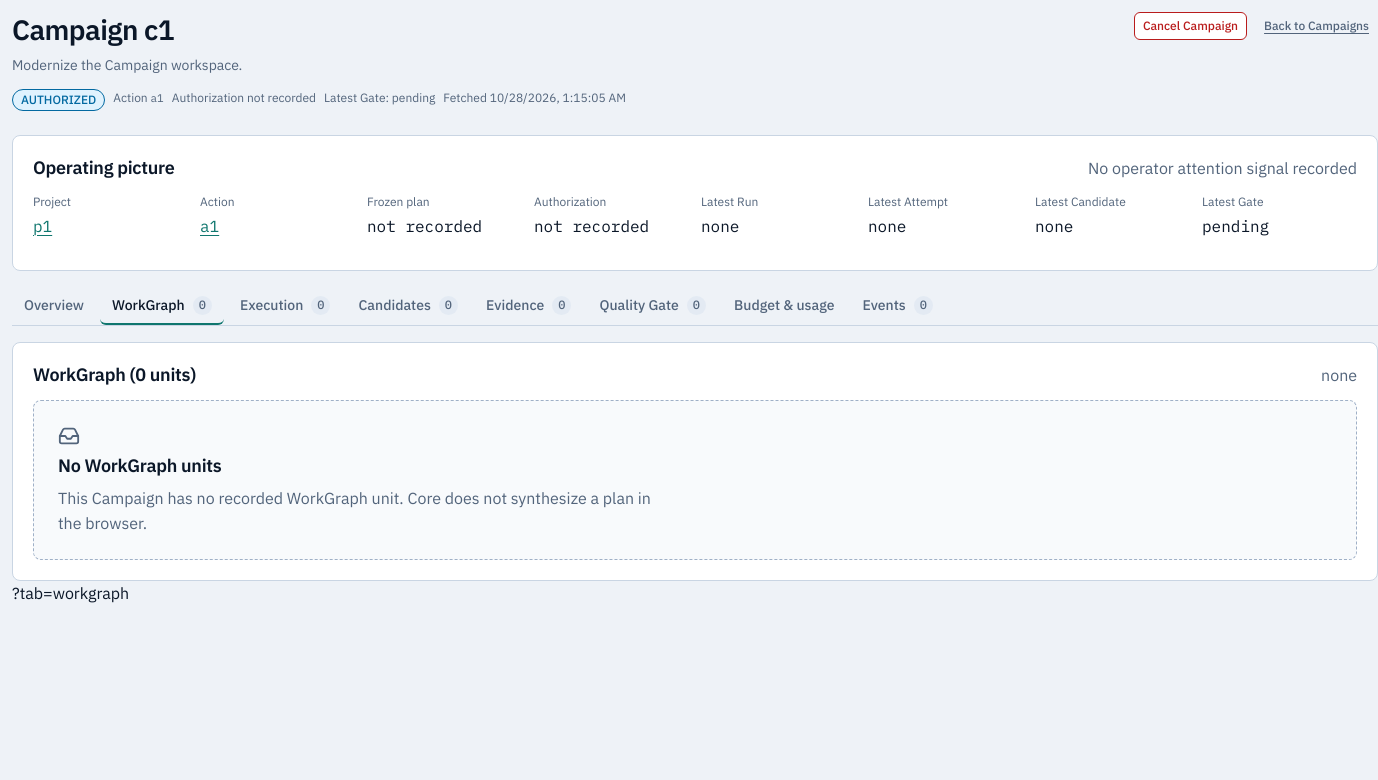
Scenario: CampaignDetail › deep-links tabs and keeps the selected tab in the URL
The width and height of the screenshot is (1378, 780).
Expected: the heading "WorkGraph (0 units)" is shown, [33, 364, 196, 387]
Click the tab "Budget & usage": (784,306) [722, 288, 846, 326]
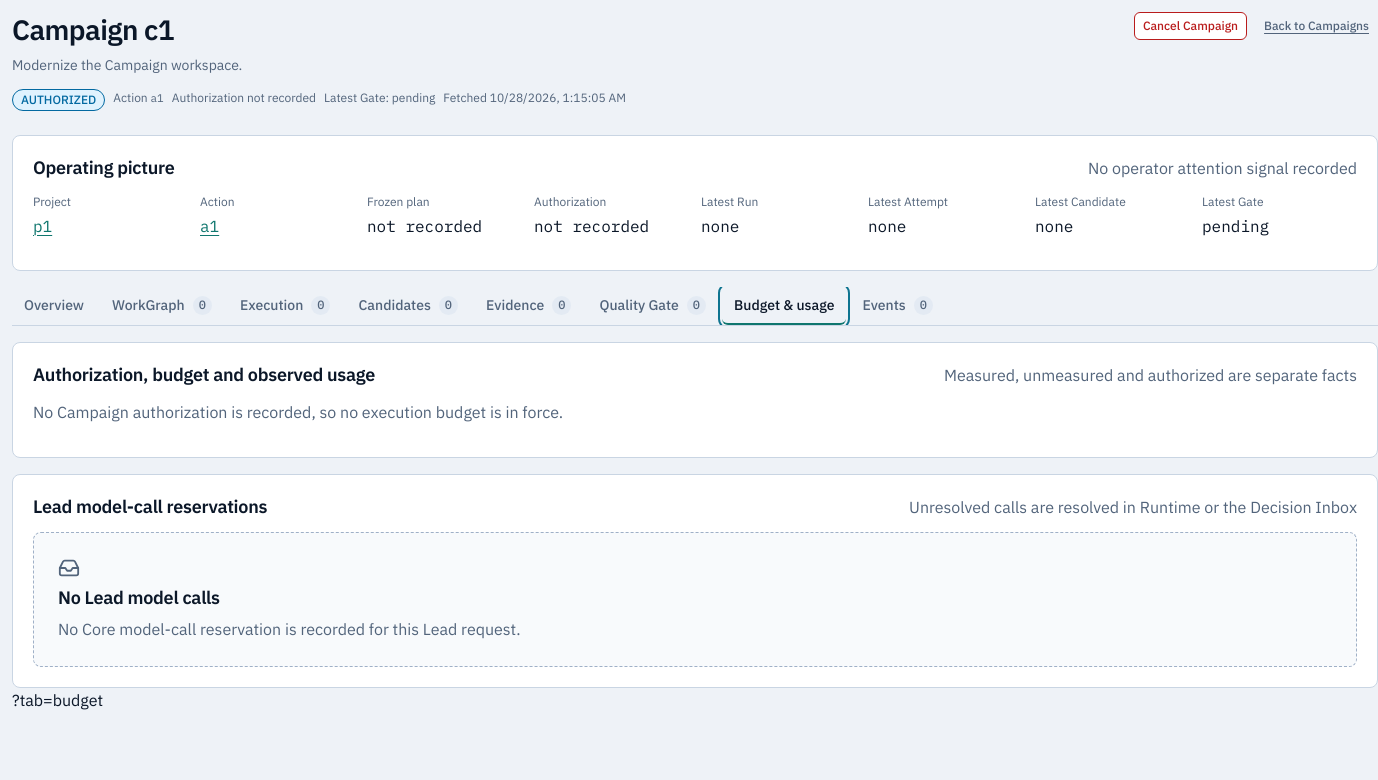
Expected: the heading "Authorization, budget and observed usage" is shown, [33, 364, 375, 387]
Expected: the text with test id "location" reads "?tab=budget", [12, 690, 103, 710]
